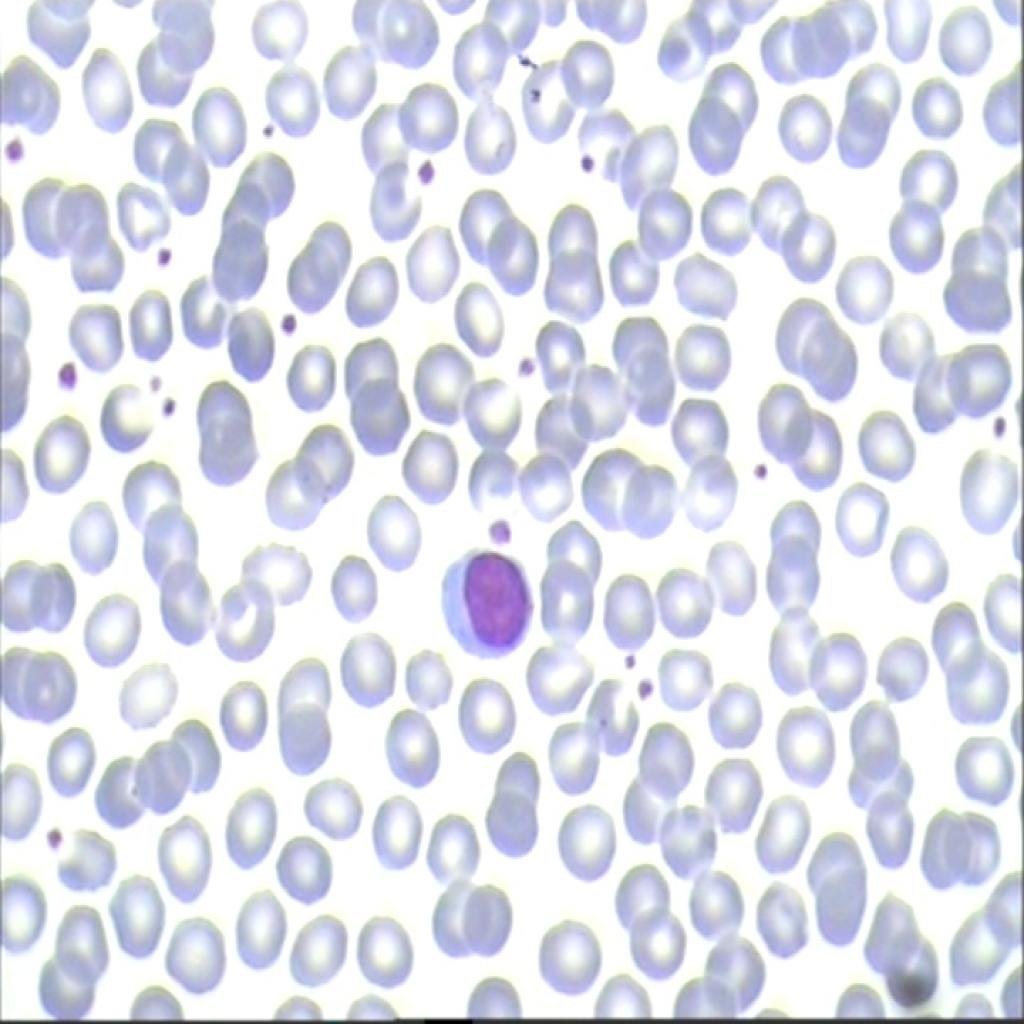Limfosit: (434, 546, 538, 666)
Platelet: (502, 345, 542, 389), (144, 234, 185, 276), (475, 509, 513, 551), (404, 148, 437, 194), (36, 814, 68, 859), (983, 400, 1014, 446), (740, 446, 774, 487), (0, 138, 40, 172), (569, 146, 604, 183), (616, 631, 646, 674), (626, 674, 656, 716), (269, 310, 306, 342), (254, 107, 284, 144), (54, 357, 78, 402), (154, 389, 179, 427), (144, 364, 165, 388)
